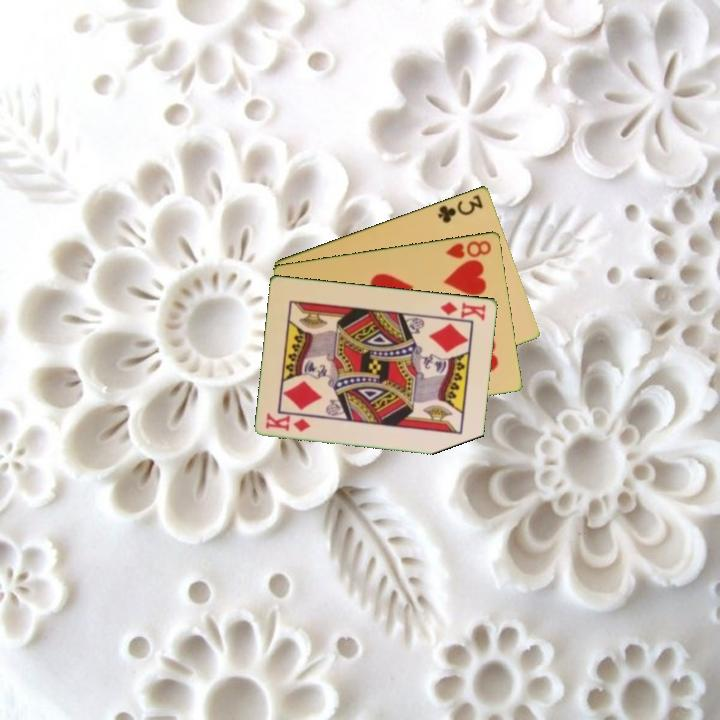3c: (434, 191, 486, 226)
8h: (442, 237, 494, 261)
Kd: (437, 298, 489, 323), (262, 410, 314, 434)
